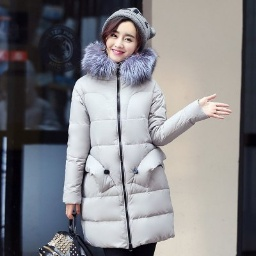face: (97, 13, 149, 68)
